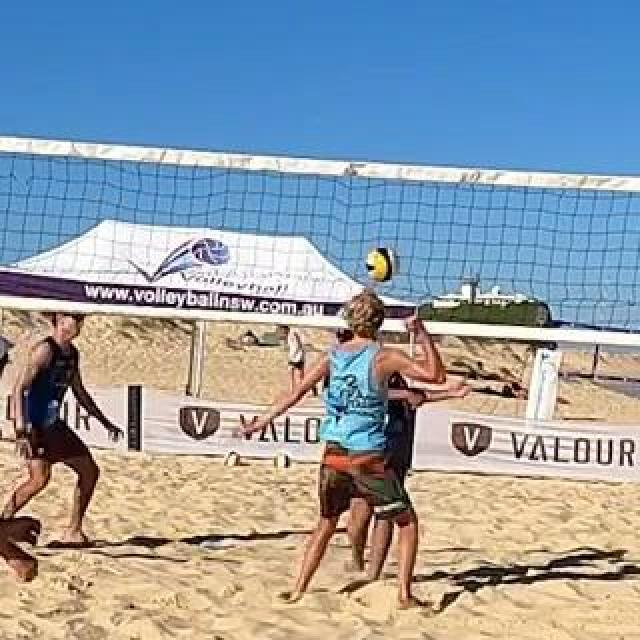volleyball: (366, 248, 398, 282), (272, 452, 292, 470), (223, 450, 241, 468)
